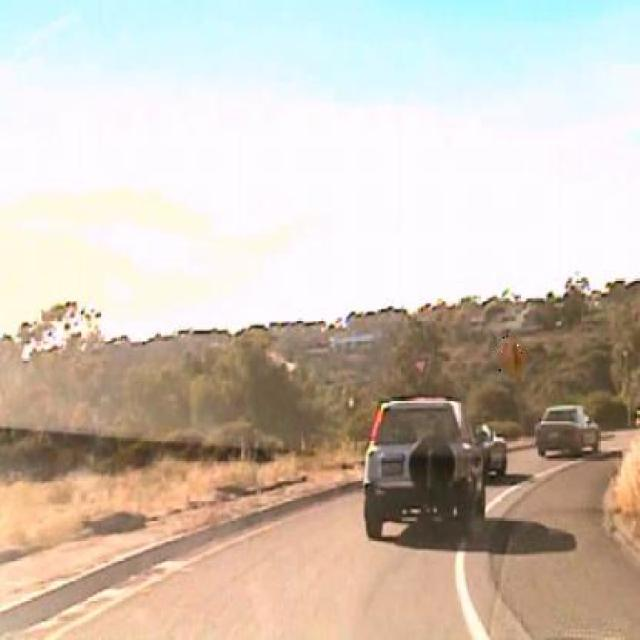merge: (500, 335, 531, 379)
yield: (411, 355, 429, 379)
